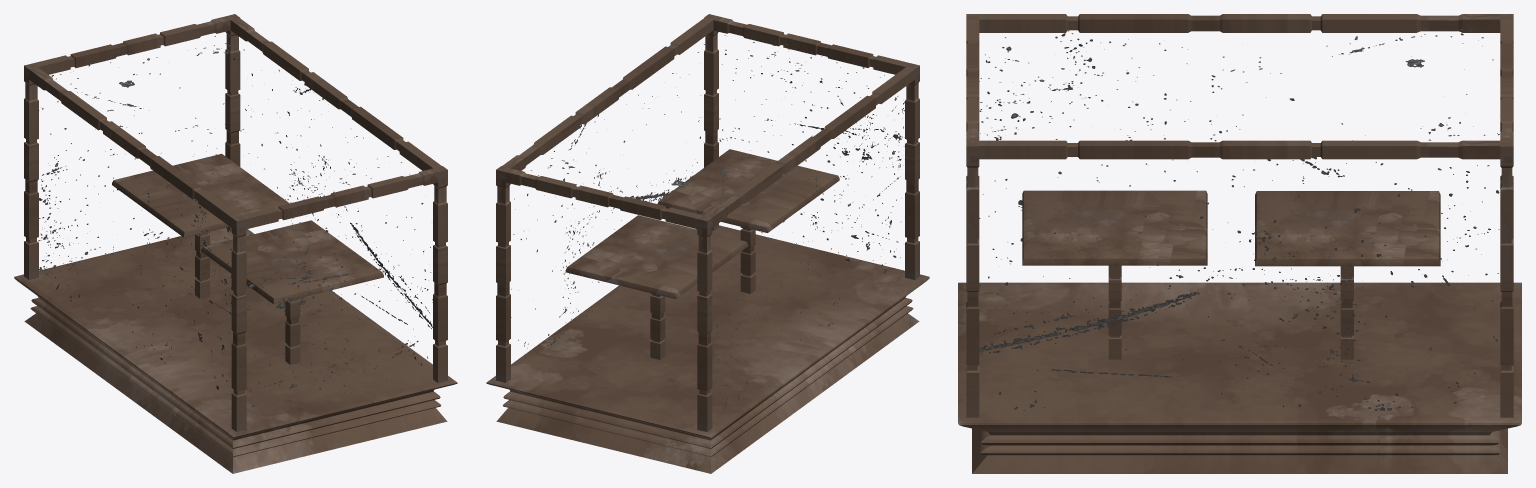
The model's file is displayBox3.fbx.
3 views of the same model, side by side, from view 1: azimuth 30°, elevation 25°; view 2: azimuth 150°, elevation 25°; view 3: azimuth 270°, elevation 25° (orthographic). The views are drawn at different scales.
Parts seen in each view (by area): view 1: DisplayBoxVar014, Shelf, shelf, displayBoxSticks007, displayBoxSticks008, Glass, displayBoxSticks002, displayBoxSticks003, displayBoxSticks001, displayBoxSticks006, displayBoxSticks005, displayBoxSticks004 (+2 smaller); view 2: DisplayBoxVar014, shelf, Shelf, displayBoxSticks007, displayBoxSticks008, displayBoxSticks001, displayBoxSticks004, displayBoxSticks002, displayBoxSticks005, displayBoxSticks006, Glass, displayBoxSticks003 (+2 smaller); view 3: DisplayBoxVar014, Shelf, shelf, displayBoxSticks008, displayBoxSticks007, Glass, displayBoxSticks004, displayBoxSticks003, displayBoxSticks005, displayBoxSticks006, displayBoxSticksCenter, displayBoxSticksCenter001.
Boxes of the visible parts, box(x1,y1,x2,y2) form: DisplayBoxVar014: box(14, 227, 457, 473); Shelf: box(201, 220, 383, 304); shelf: box(112, 153, 289, 237); displayBoxSticks007: box(29, 67, 240, 227); displayBoxSticks008: box(230, 18, 441, 170); Glass: box(38, 32, 433, 413); displayBoxSticks002: box(231, 215, 246, 431); displayBoxSticks003: box(433, 166, 447, 382); displayBoxSticks001: box(24, 63, 38, 279); displayBoxSticks006: box(242, 168, 437, 228); displayBoxSticks005: box(34, 16, 230, 74); displayBoxSticks004: box(225, 14, 240, 230); DisplayBoxVar014: box(486, 225, 929, 473); shelf: box(565, 215, 748, 298); Shelf: box(657, 149, 839, 232); displayBoxSticks007: box(704, 67, 914, 227); displayBoxSticks008: box(502, 18, 713, 170); displayBoxSticks001: box(697, 215, 712, 431); displayBoxSticks004: box(496, 166, 510, 382); displayBoxSticks002: box(905, 63, 919, 279); displayBoxSticks005: box(506, 168, 701, 228); displayBoxSticks006: box(713, 16, 909, 74); Glass: box(511, 35, 907, 408); displayBoxSticks003: box(704, 14, 718, 230); DisplayBoxVar014: box(958, 282, 1521, 473); Shelf: box(1022, 190, 1207, 265); shelf: box(1255, 191, 1440, 266); displayBoxSticks008: box(979, 140, 1500, 159); displayBoxSticks007: box(979, 14, 1500, 32); Glass: box(979, 28, 1501, 410); displayBoxSticks004: box(1500, 140, 1513, 417); displayBoxSticks003: box(966, 140, 979, 417); displayBoxSticks005: box(1500, 20, 1513, 140); displayBoxSticks006: box(966, 20, 979, 140); displayBoxSticksCenter: box(1340, 266, 1353, 359); displayBoxSticksCenter001: box(1108, 265, 1121, 359).
Bounding box in the file's own units: 164 × 177 × 278.
